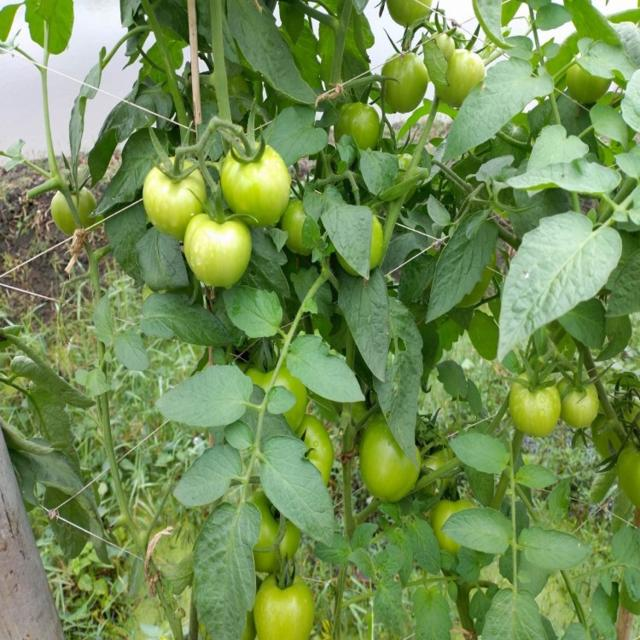tomato: (223, 144, 291, 217), (146, 151, 206, 232), (366, 423, 421, 508), (185, 215, 253, 283), (250, 504, 304, 575), (510, 374, 563, 443), (256, 576, 312, 638), (252, 364, 303, 426), (334, 96, 390, 151), (382, 50, 426, 118), (428, 491, 480, 547), (51, 175, 96, 235), (442, 47, 490, 101), (291, 417, 329, 481), (563, 66, 610, 103), (570, 384, 603, 435), (385, 1, 444, 29), (429, 29, 462, 67), (288, 190, 311, 244), (365, 211, 385, 262), (427, 448, 456, 468)
